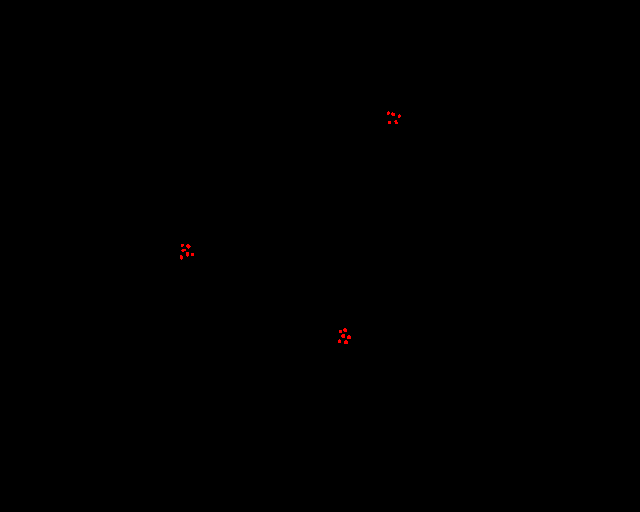Target: (186, 244, 191, 249), (391, 112, 395, 116), (394, 120, 398, 124), (343, 328, 347, 332), (341, 334, 345, 338), (347, 335, 351, 339), (344, 340, 348, 344), (181, 249, 186, 252), (186, 252, 189, 257), (180, 255, 183, 260), (387, 111, 390, 115), (398, 114, 401, 118), (338, 339, 341, 343), (388, 121, 391, 124), (181, 244, 184, 247), (191, 253, 194, 256), (339, 330, 342, 333)
